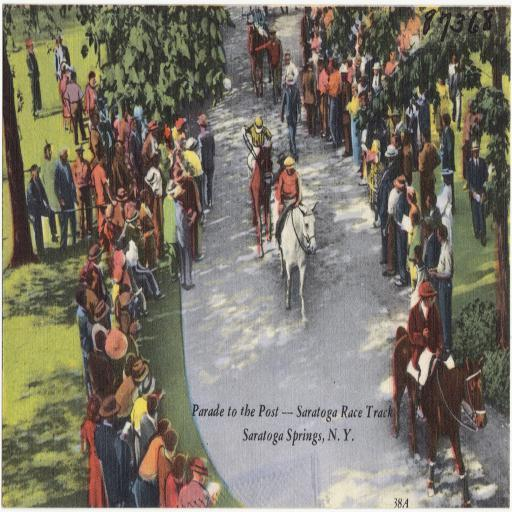horse: (390, 324, 488, 508), (273, 198, 319, 328), (249, 144, 277, 258), (246, 26, 265, 98)
